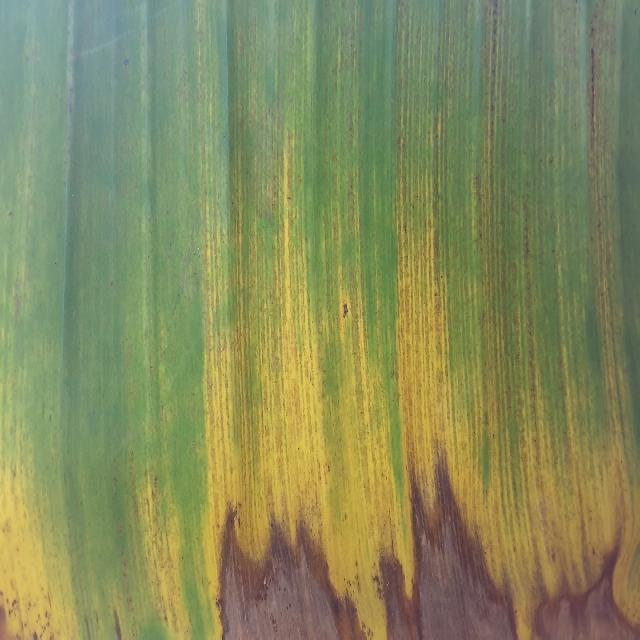Cordana: (0, 69, 640, 640)
